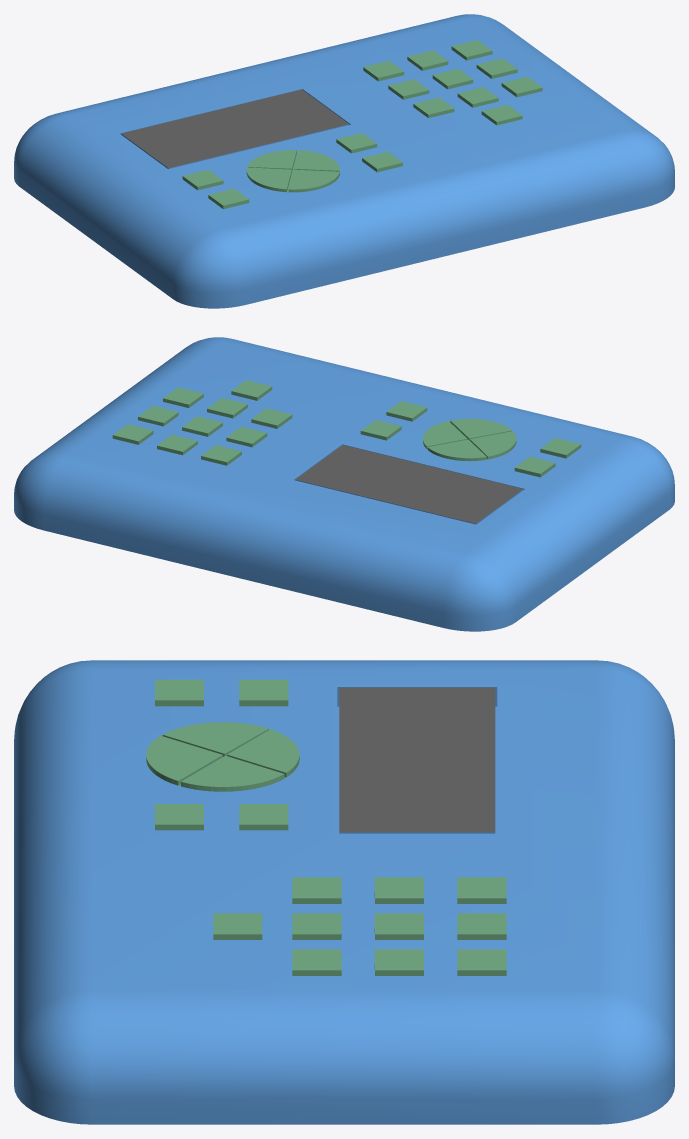
3 views of the same model, one above another, from view 1: azimuth 30°, elevation 25°; view 2: azimuth 150°, elevation 25°; view 3: azimuth 270°, elevation 25° (orthographic). The views are drawn at different scales.
Parts seen in each view (by area): view 1: Alarm keypad; view 2: Alarm keypad; view 3: Alarm keypad.
Boxes of the visible parts, x1,y1,x2,y2 form: Alarm keypad: (14, 14, 674, 308); Alarm keypad: (14, 337, 674, 631); Alarm keypad: (14, 660, 674, 1124).
Bounding box in the file's own units: 0.176 × 0.0213 × 0.1237.
